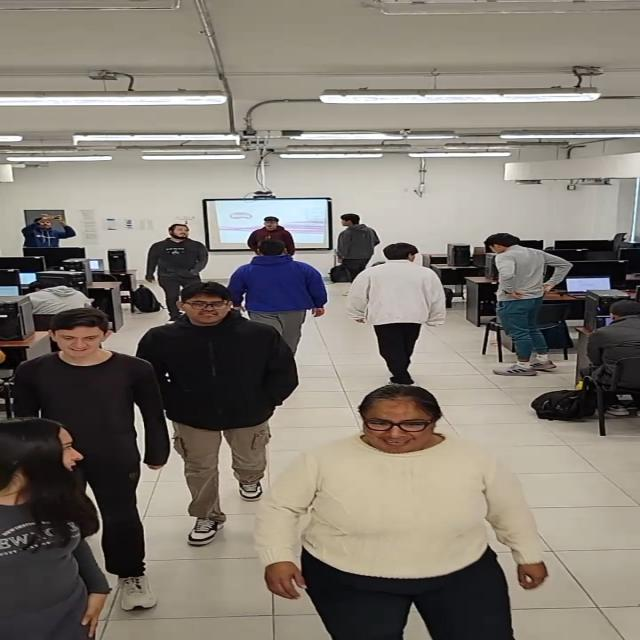Persona: (264, 388, 554, 640), (38, 307, 158, 620), (144, 284, 276, 540), (480, 230, 567, 382), (359, 240, 445, 390), (232, 237, 321, 351), (146, 220, 193, 312), (329, 204, 371, 274)
